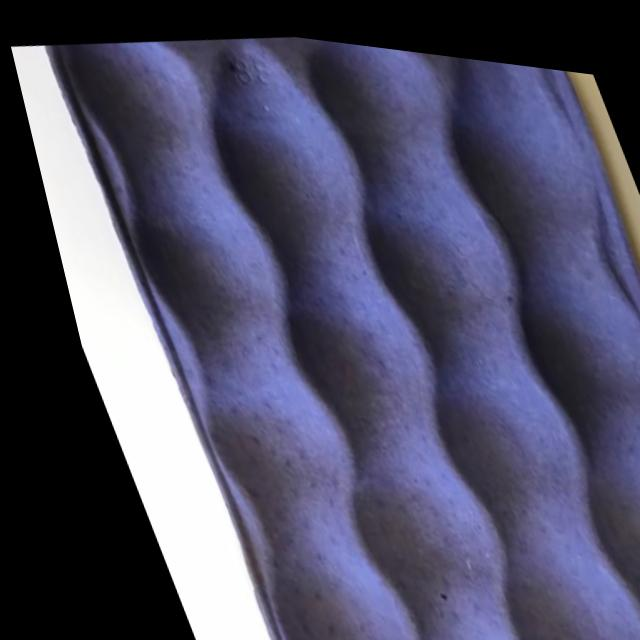paper: (35, 3, 640, 640)
